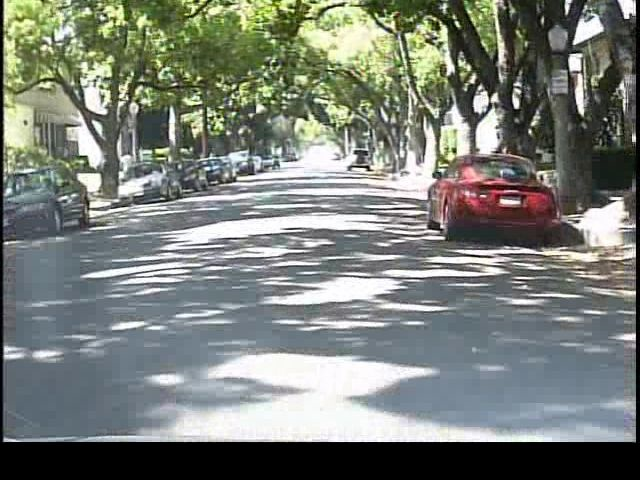person: (118, 146, 140, 195)
